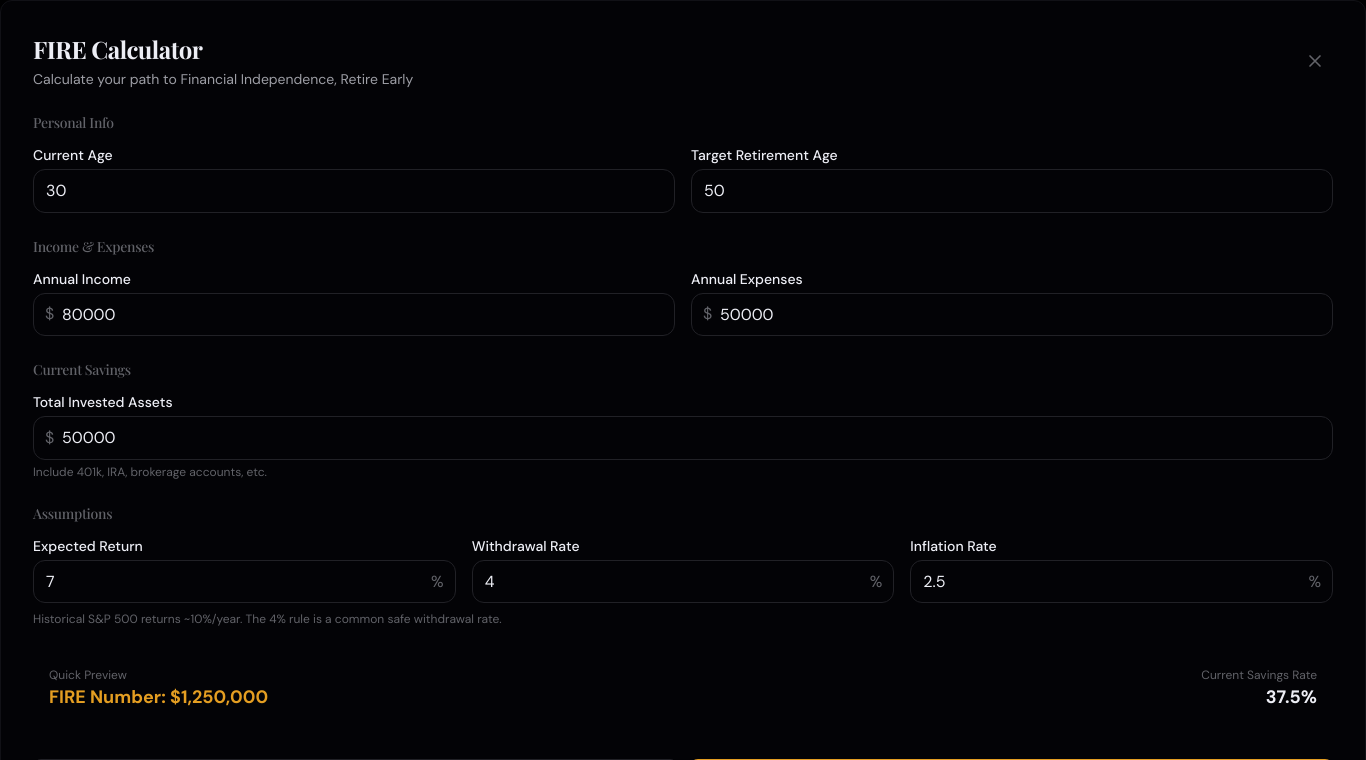
Test: Assessment Edge Cases › FIRECalculator Edge Cases › handles very small withdrawal rate
This screenshot has width=1366, height=760.
Replace the text in the 7th number field showing "4" with "0.5": (683, 582) [472,560,894,603]
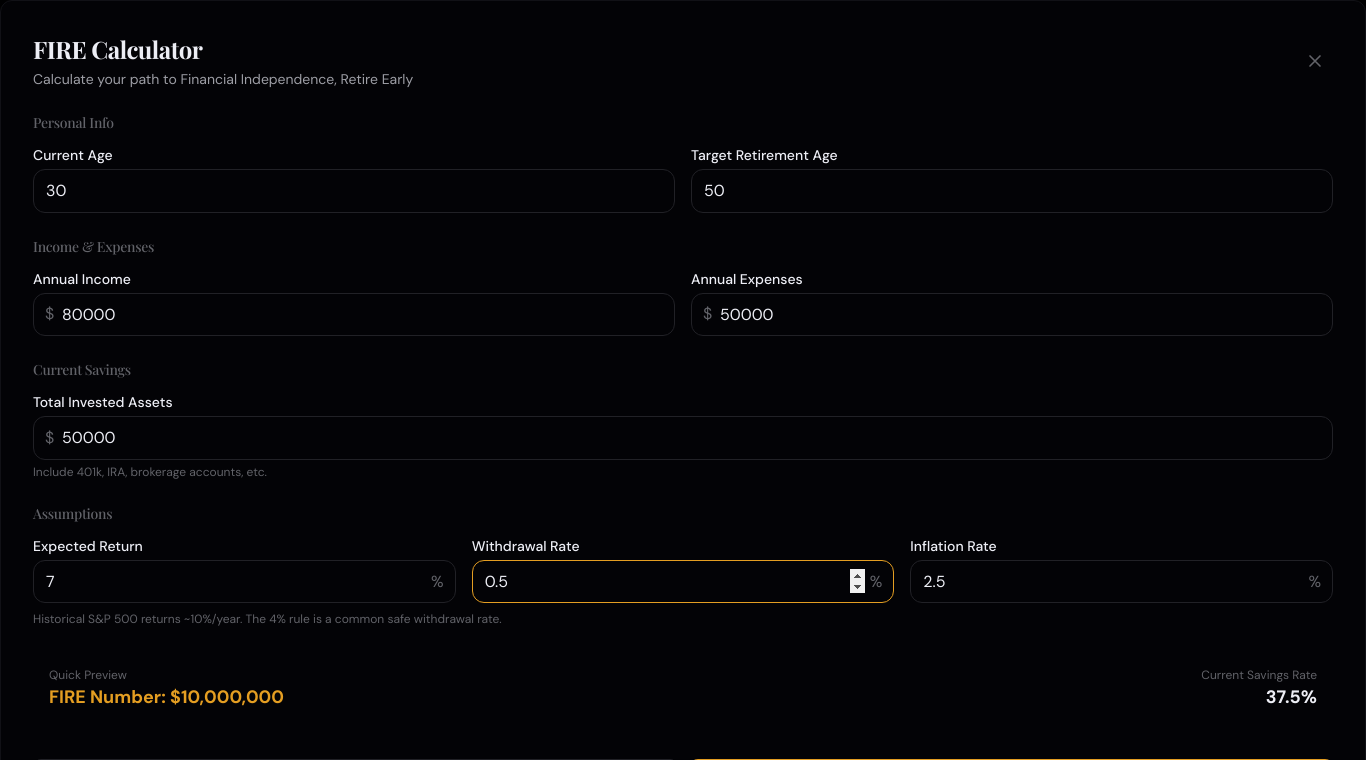
expect the text "FIRE Number: $10,000,000" is shown: met, box [49,683,284,711]
